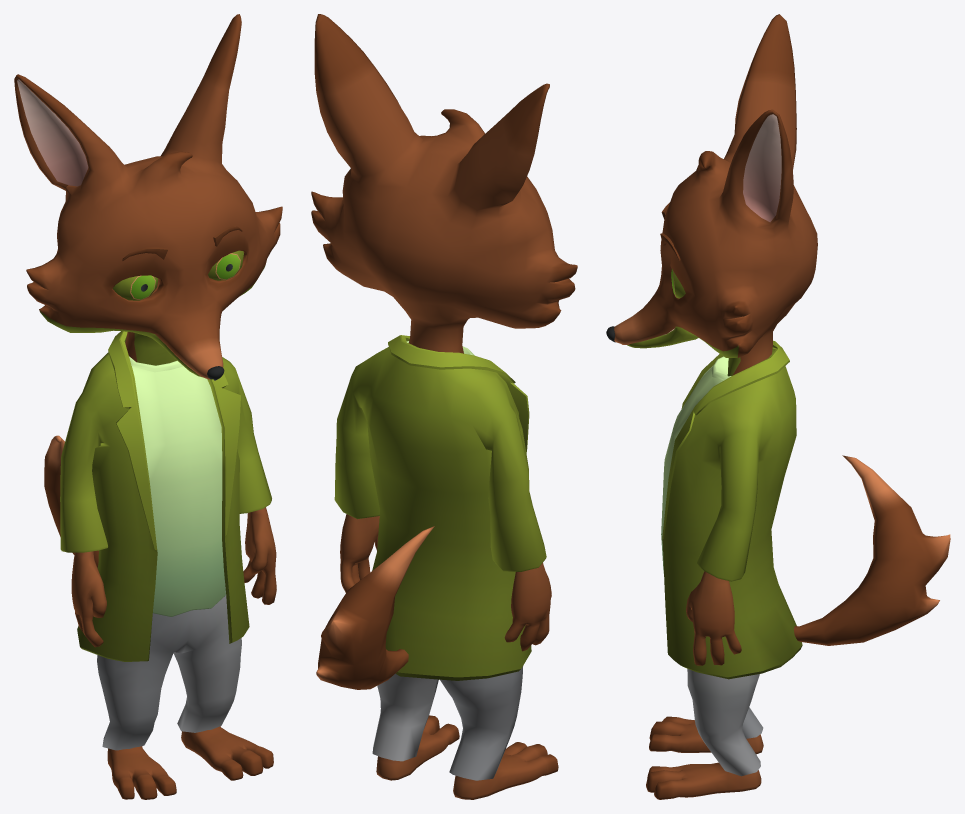
File: edward.gltf
3 views of the same model, side by side, from view 1: azimuth 30°, elevation 25°; view 2: azimuth 150°, elevation 25°; view 3: azimuth 270°, elevation 25° (orthographic). The views are drawn at different scales.
Parts seen in each view (by area): view 1: Edward; view 2: Edward; view 3: Edward.
Part boxes in pixels (x1,y1,x2,y2): Edward: [14, 14, 282, 799]; Edward: [311, 14, 577, 799]; Edward: [606, 14, 950, 799].
Bounding box in the file's own units: 0.5022 × 1.34 × 0.5961.
Materials: 1 (1 with a texture image).
